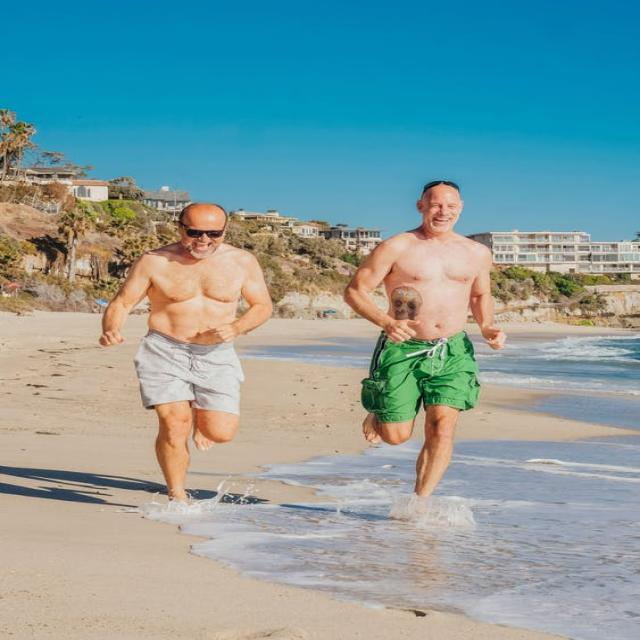running: (96, 199, 277, 507), (338, 178, 511, 491)
